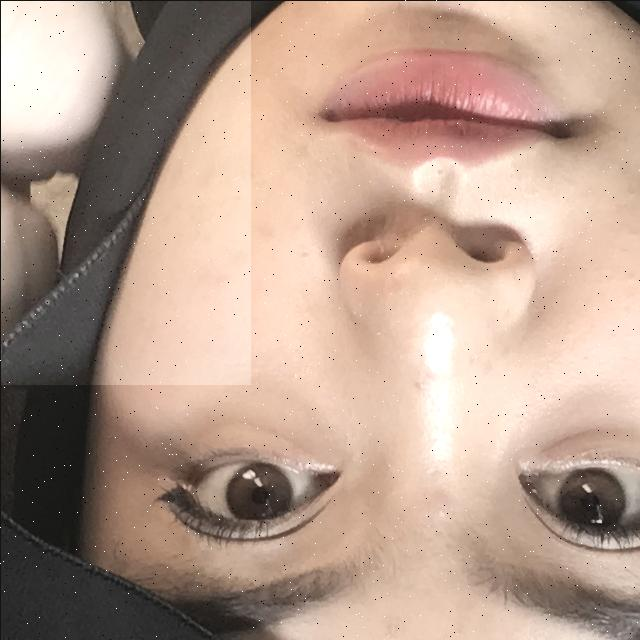ibu: (0, 0, 250, 384)
